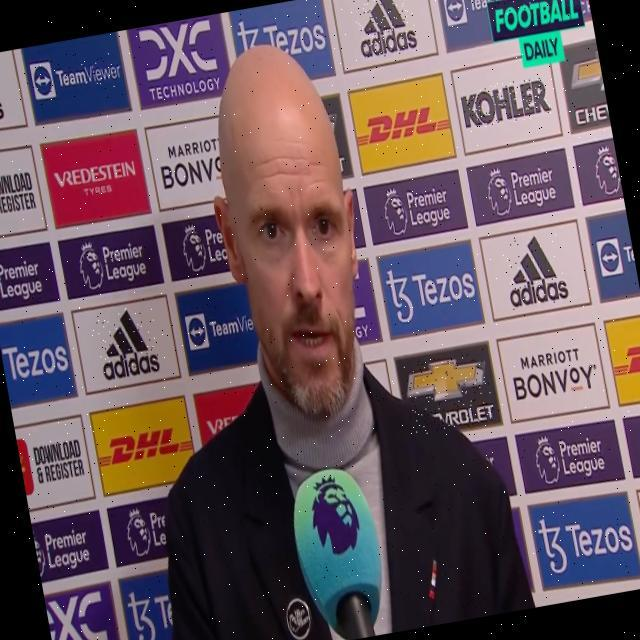Adidas: (500, 228, 571, 311), (93, 304, 163, 383), (349, 0, 418, 60)
Chevrolet: (403, 349, 497, 435)
Kohler: (460, 74, 552, 130)
TeamViewer: (31, 50, 123, 102), (441, 0, 538, 24)
